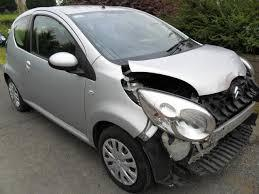Headlight-Damage: (123, 77, 203, 133)
bonnet-dent: (139, 40, 248, 89)
